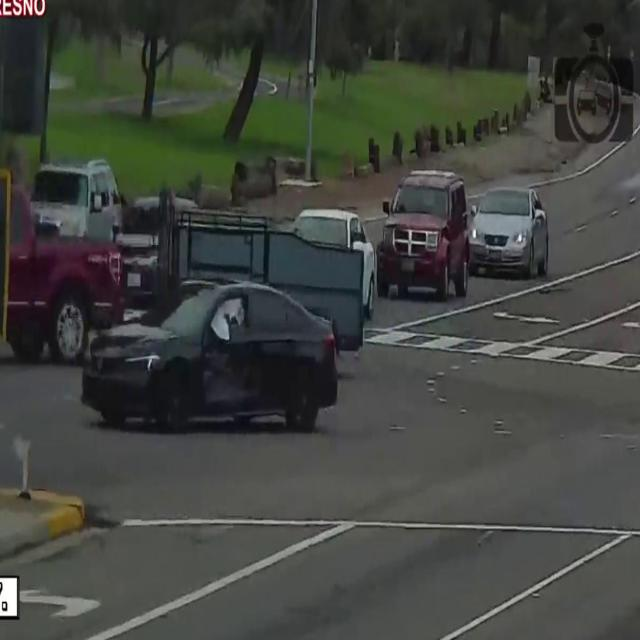accident: (73, 256, 349, 449)
